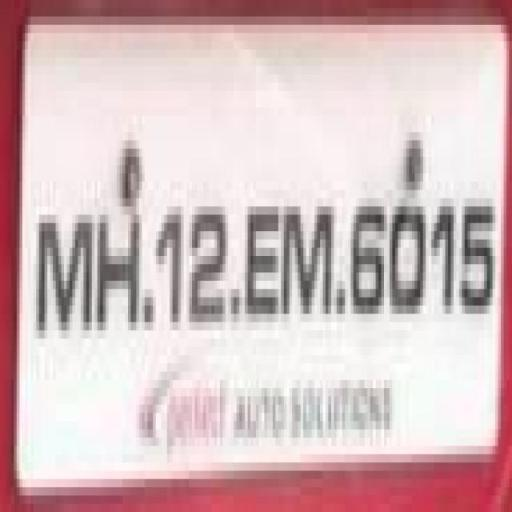number plate: (17, 33, 512, 462)
